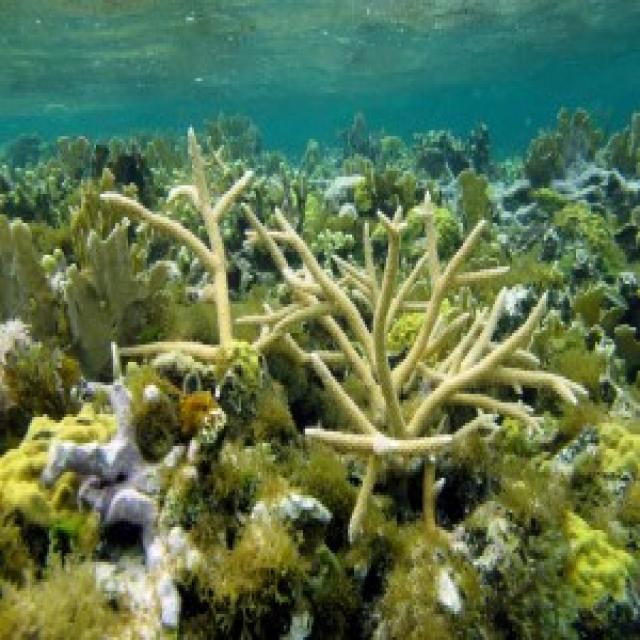Bleached: (374, 418, 639, 638), (1, 531, 321, 638), (1, 198, 163, 377), (46, 383, 159, 563), (1, 406, 114, 522)
Healthy: (236, 192, 583, 540), (101, 140, 248, 351)
